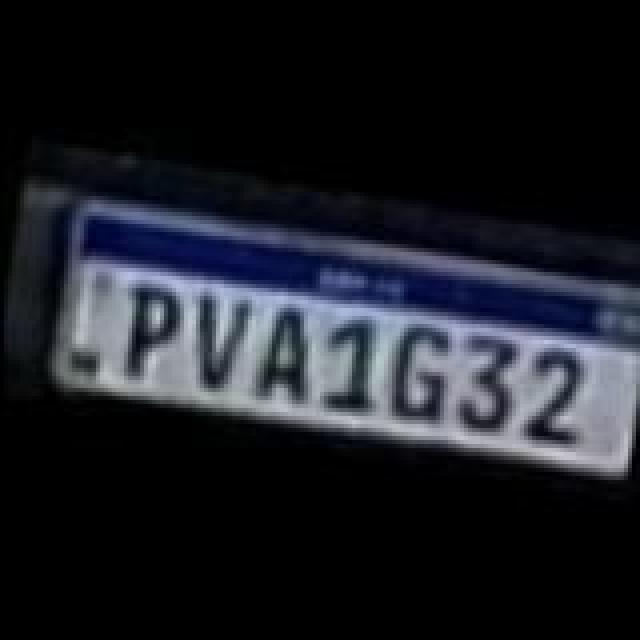1: (308, 306, 388, 418)
2: (508, 344, 592, 456)
3: (446, 332, 526, 444)
A: (246, 300, 322, 408)
G: (378, 318, 462, 426)
P: (112, 276, 184, 388)
V: (182, 288, 250, 392)
